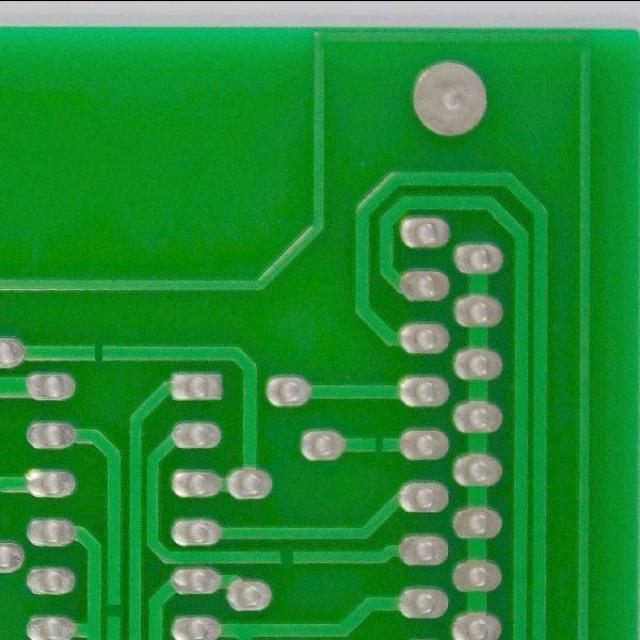Open_Circuit: (83, 330, 115, 372), (98, 593, 130, 629), (364, 424, 394, 462), (268, 542, 306, 572)
